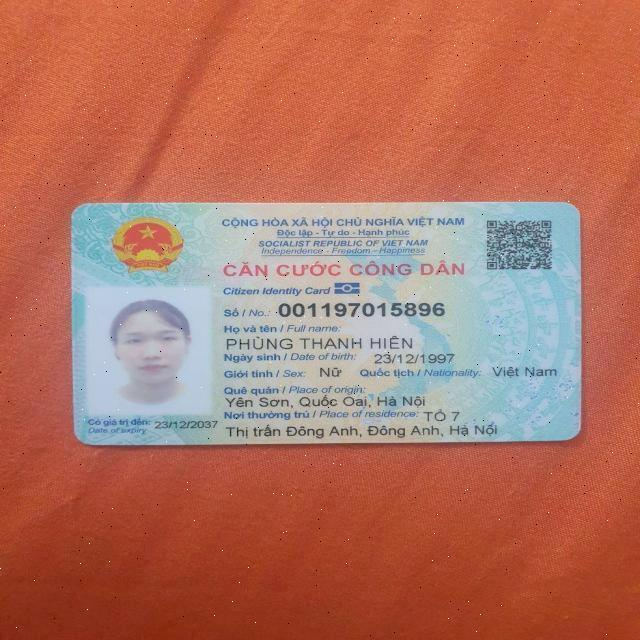current_place: (223, 419, 509, 443), (420, 404, 469, 426)
dob: (373, 352, 461, 366)
expire_date: (152, 414, 222, 433)
gender: (314, 363, 348, 382)
id: (272, 299, 450, 320)
name: (221, 335, 419, 352)
nationality: (488, 356, 565, 382)
origin_place: (224, 393, 431, 409)
